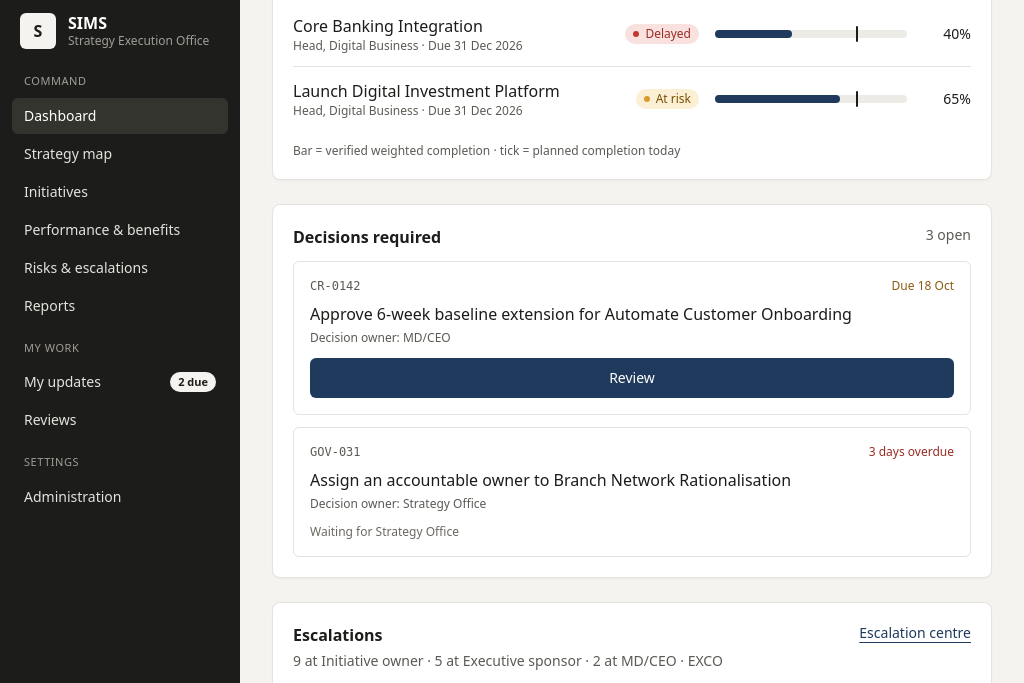
Test: Command Centre › records a decision, asking for a reason when rejecting
The width and height of the screenshot is (1024, 683).
(page scrolled)
Click the button with aria-label "Review CR-0142".
click(632, 378)  # box [310,358,954,398]
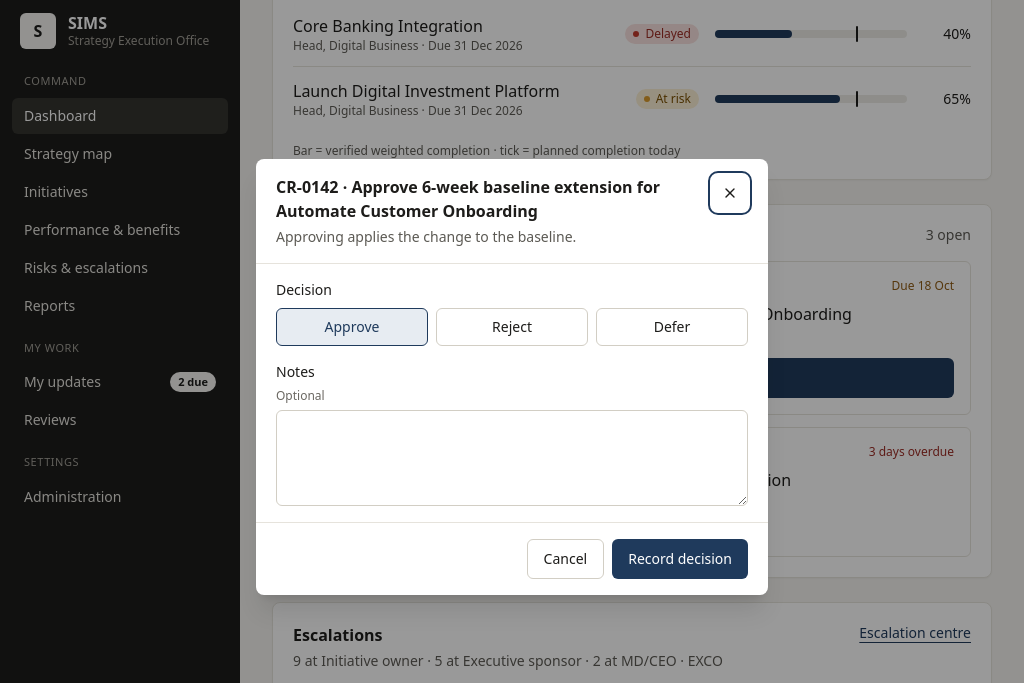
Check: the text "Approving applies the change to the baseline." is shown, box [276,227,576,246]
Click the radio button labelled "Reject".
click(512, 327)  # box [436,308,588,346]
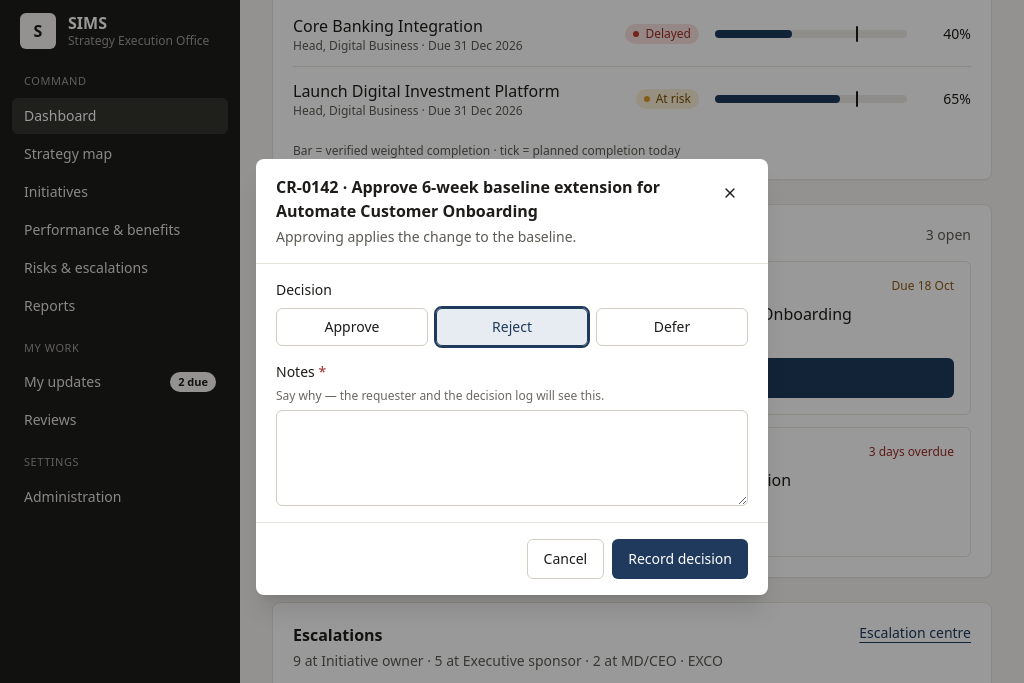
Click the button "Record decision".
click(680, 559)  # box [612,539,748,579]
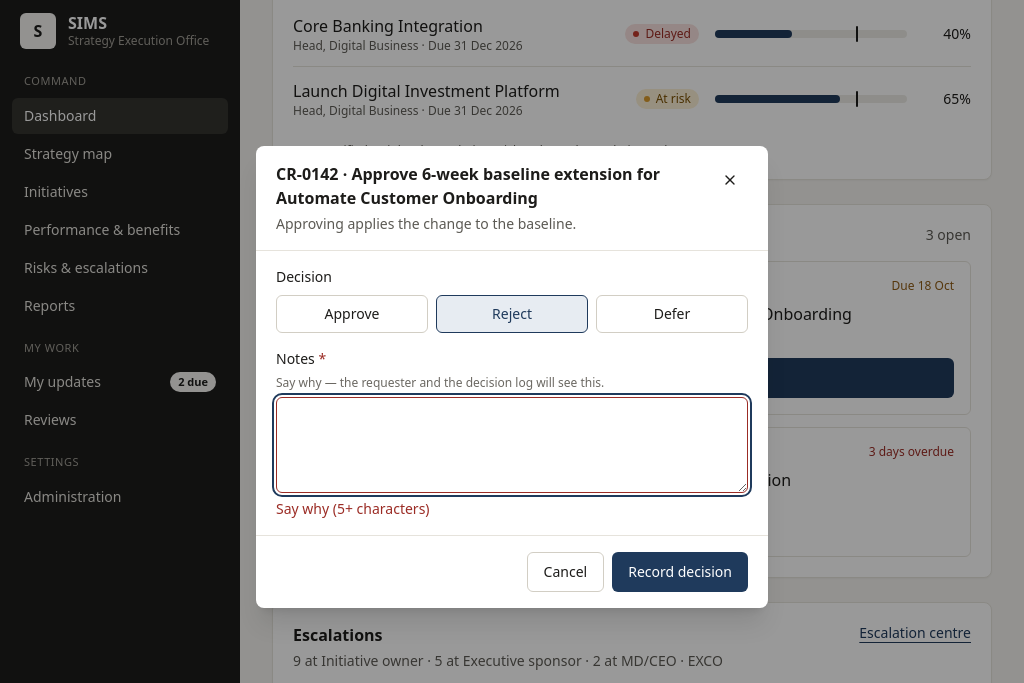
Check: the text "Say why (5+ characters)" is shown, box [276,499,430,518]
Type "Scope must be cut first" into the text box labelled "Notes *".
click(512, 445); type("Scope must be cut first")  # box [276,397,748,493]
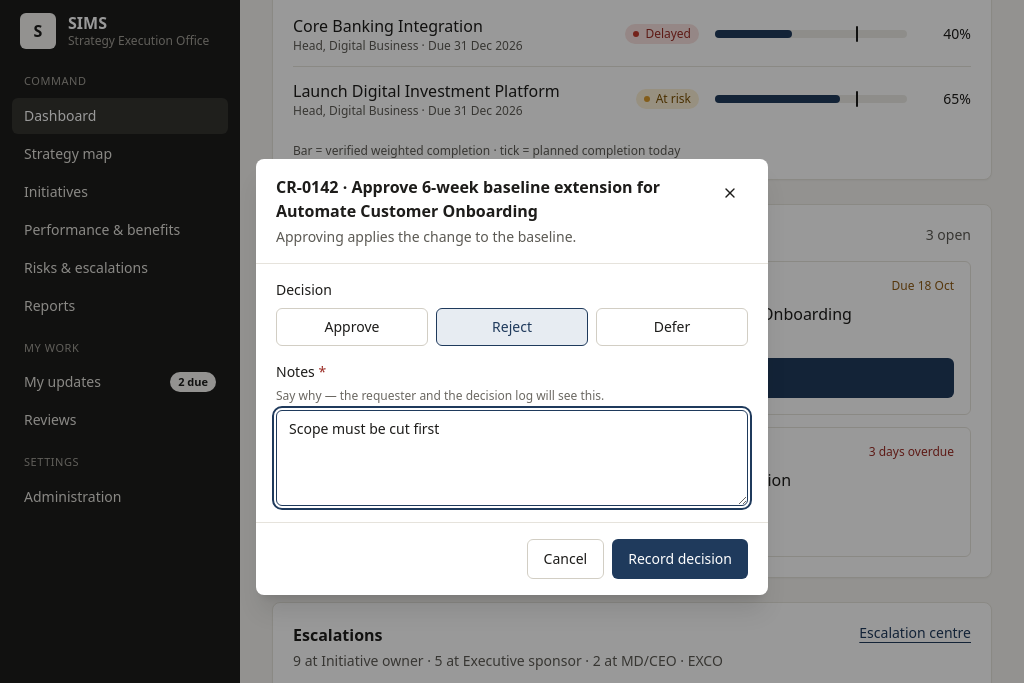
Click the button "Record decision".
click(680, 559)  # box [612,539,748,579]
(page scrolled)
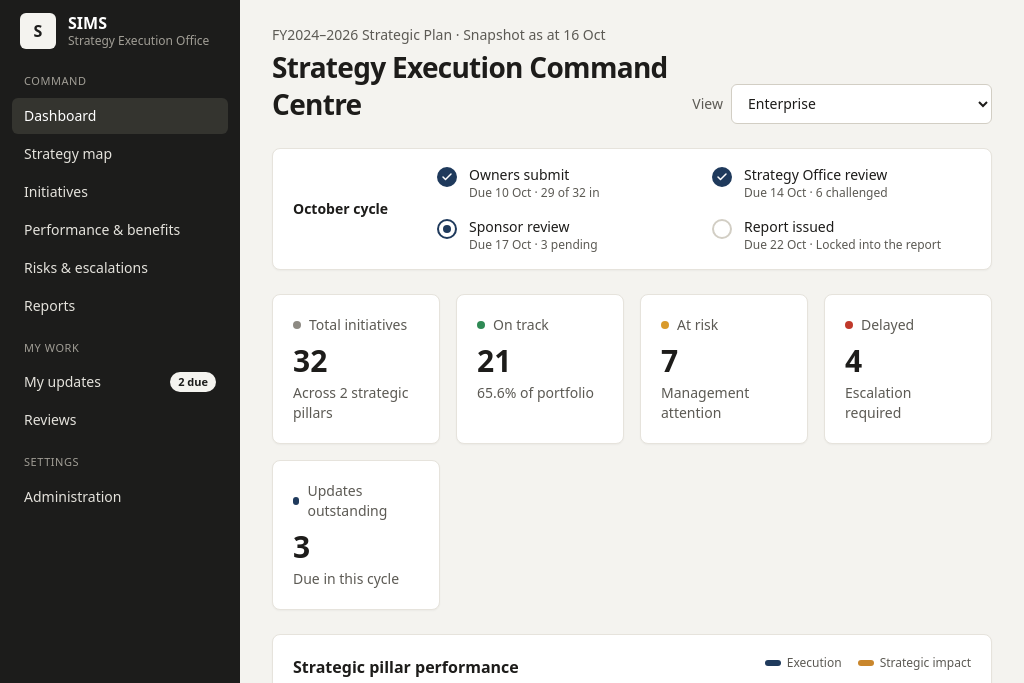
Check: the heading "Strategy Execution Command Centre" is shown, box [272,49,676,124]
Check: the dialog is gone
